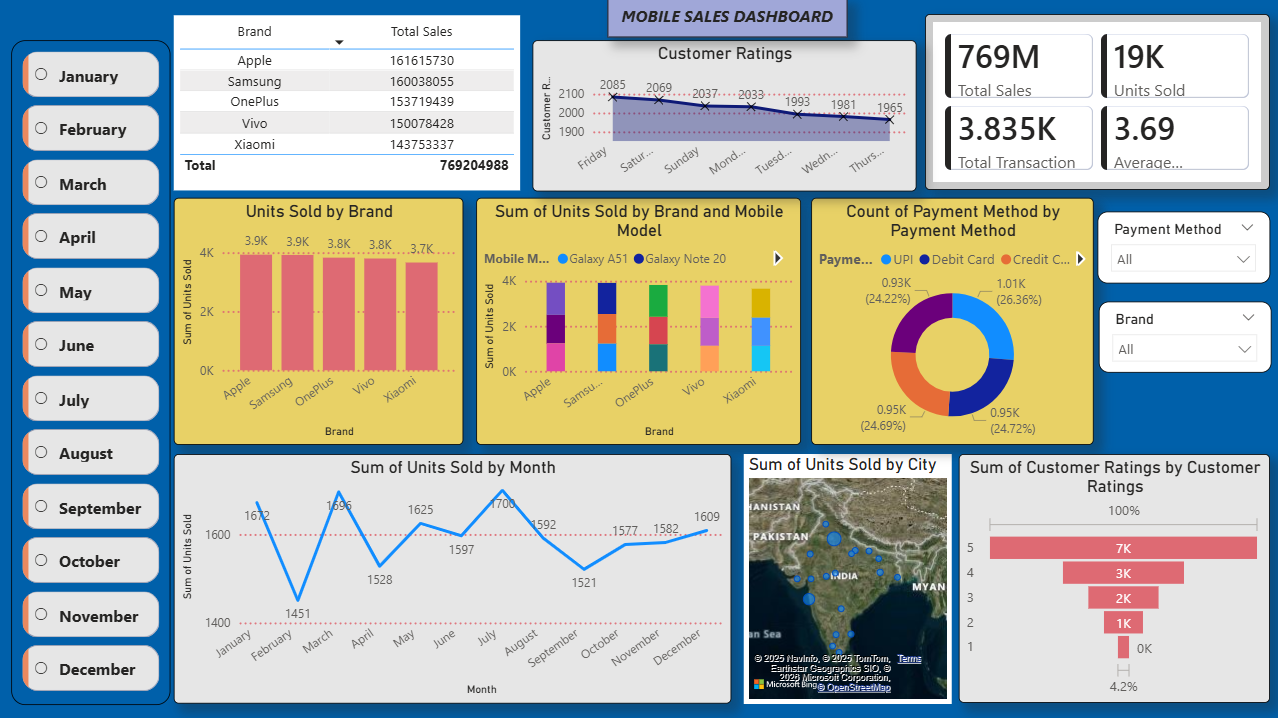

The dashboard page shown, as its layout file describes it:
{"tool":"powerbi","page":{"name":"Page 1","canvas":[1280,720],"ordinal":0},"visuals":[{"type":"advancedSlicerVisual","fields":{"Values":["Sheet1.Date.Variation.Date Hierarchy.Month"]},"box":[10.9,41,159.3,664.7],"z":0},{"type":"clusteredColumnChart","title":"Units Sold by Brand","fields":{"Category":["Sheet1.Brand"],"Y":["Sum(Sheet1.Units Sold)"]},"box":[173.7,199.1,289.5,247.3],"z":1000},{"type":"ribbonChart","fields":{"Category":["Sheet1.Brand"],"Y":["Sum(Sheet1.Units Sold)"],"Series":["Sheet1.Mobile Model"]},"box":[476.5,199.1,324.5,247.3],"z":2000},{"type":"lineChart","fields":{"Category":["Mobile Sales Data.Date.Variation.Date Hierarchy.Month"],"Y":["Sum(Sheet1.Units Sold)"]},"box":[173.7,454.8,557.4,249.7],"z":3000},{"type":"cardVisual","fields":{"Data":["Mobile Sales Data.Total Sales","CountNonNull(Mobile Sales Data.Transaction ID)","Sum(Mobile Sales Data.Units Sold)","Avg(Mobile Sales Data.Customer Ratings)"]},"box":[925.3,14.5,345,176.1],"z":3001},{"type":"map","fields":{"Category":["Mobile Sales Data.City"],"Size":["Sum(Mobile Sales Data.Units Sold)"]},"box":[744.4,454.8,207.5,249.7],"z":3002},{"type":"donutChart","fields":{"Category":["Mobile Sales Data.Payment Method"],"Y":["CountNonNull(Mobile Sales Data.Payment Method)"]},"box":[810.7,199.1,282.3,247.3],"z":3003},{"type":"funnel","fields":{"Y":["Sum(Mobile Sales Data.Customer Ratings)"],"Category":["Mobile Sales Data.Customer Ratings"]},"box":[959.1,454.8,311.3,248.5],"z":3006},{"type":"slicer","fields":{"Values":["Mobile Sales Data.Payment Method"]},"box":[1097.9,212.3,172.5,72.4],"z":3007},{"type":"slicer","fields":{"Values":["Mobile Sales Data.Brand"]},"box":[1099.1,302.8,172.5,71.2],"z":3008},{"type":"stackedAreaChart","title":"Customer Ratings","fields":{"Y":["Sum(Mobile Sales Data.Customer Ratings)"],"Category":["Mobile Sales Data.Day Name"]},"box":[532,41,383.6,150.8],"z":3009},{"type":"tableEx","fields":{"Values":["Mobile Sales Data.Brand","Mobile Sales Data.Total Sales"]},"box":[173.7,15.7,346.2,174.9],"z":3010},{"type":"textbox","box":[608,0,240.1,38.6],"z":3011}]}

Visuals, with their boxes in screenshot pixels (x1, y1, x2, y2), scaled from the page's 1280x720 canvas onto the 1278x718 screenshot:
advancedSlicerVisual - Sheet1.Date.Variation.Date Hierarchy.Month: Rect(11, 41, 170, 704)
"Units Sold by Brand" clusteredColumnChart: Rect(173, 199, 462, 445)
ribbonChart - Sheet1.Brand x Sum(Sheet1.Units Sold): Rect(476, 199, 800, 445)
lineChart - Mobile Sales Data.Date.Variation.Date Hierarchy.Month x Sum(Sheet1.Units Sold): Rect(173, 454, 730, 703)
cardVisual - Mobile Sales Data.Total Sales x CountNonNull(Mobile Sales Data.Transaction ID): Rect(924, 14, 1268, 190)
map - Mobile Sales Data.City x Sum(Mobile Sales Data.Units Sold): Rect(743, 454, 950, 703)
donutChart - Mobile Sales Data.Payment Method x CountNonNull(Mobile Sales Data.Payment Method): Rect(809, 199, 1091, 445)
funnel - Sum(Mobile Sales Data.Customer Ratings) x Mobile Sales Data.Customer Ratings: Rect(958, 454, 1268, 701)
slicer - Mobile Sales Data.Payment Method: Rect(1096, 212, 1268, 284)
slicer - Mobile Sales Data.Brand: Rect(1097, 302, 1270, 373)
"Customer Ratings" stackedAreaChart: Rect(531, 41, 914, 191)
tableEx - Mobile Sales Data.Brand x Mobile Sales Data.Total Sales: Rect(173, 16, 519, 190)
textbox: Rect(607, 0, 847, 38)
